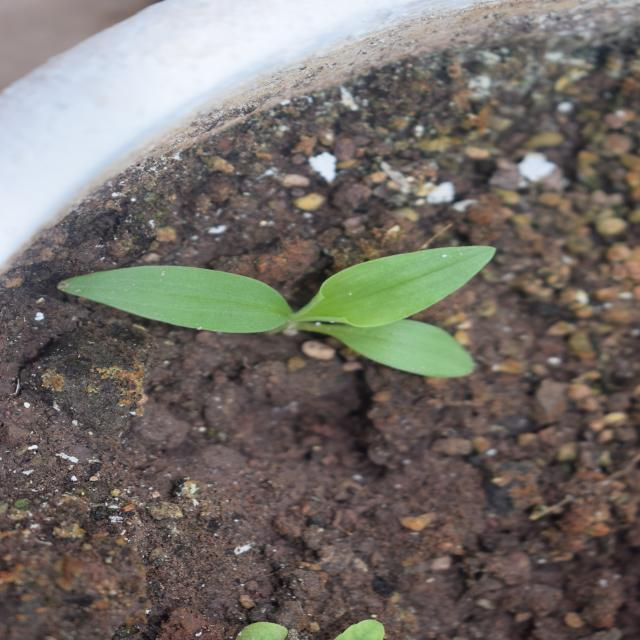Common Dayflower: (227, 144, 382, 572)
